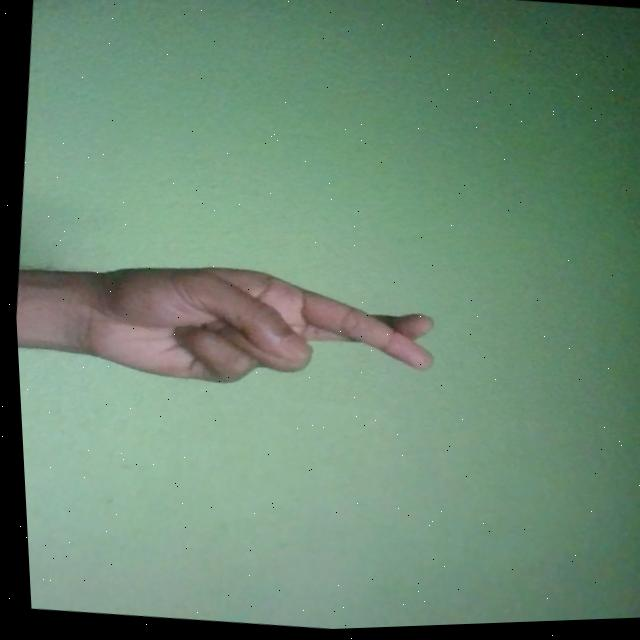Good Luck: (64, 248, 438, 411)
